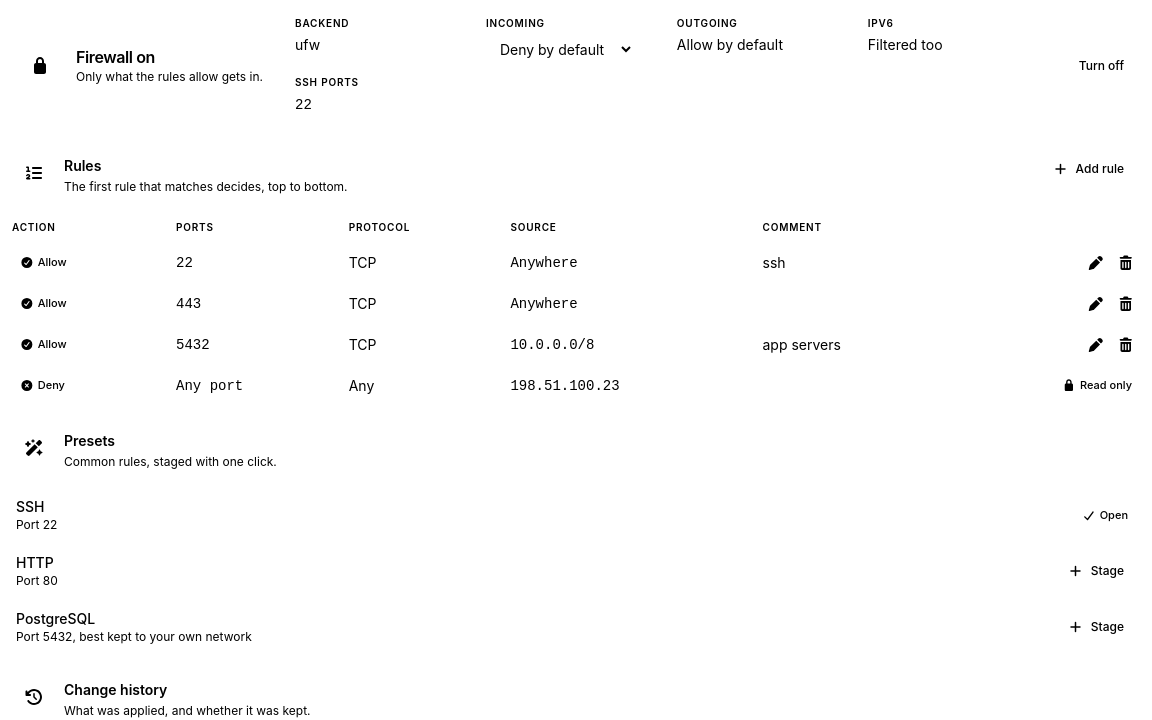
FirewallPanel › turns the firewall off after the typed name and a step-up
Click the button "Turn off" at (1101,66), box [1067, 52, 1136, 80]
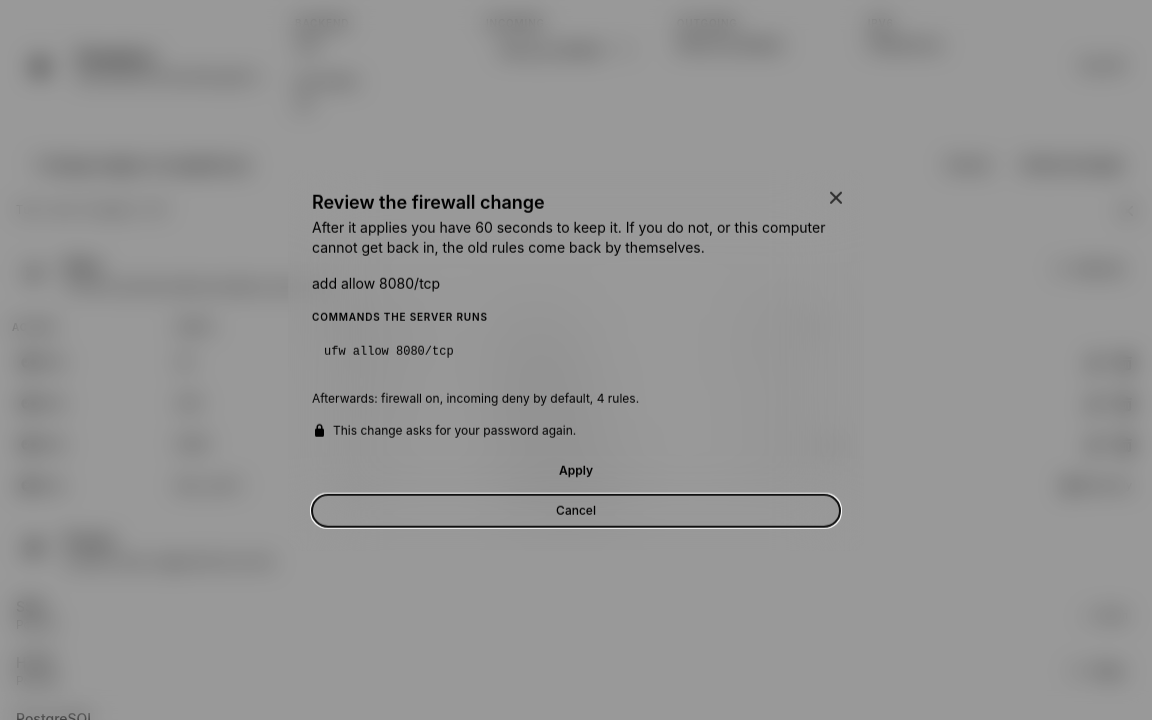
Expected: the text "This change asks for your password again." is shown, [312, 422, 576, 437]
Click the button "Apply" at (576,470), box [312, 454, 840, 486]
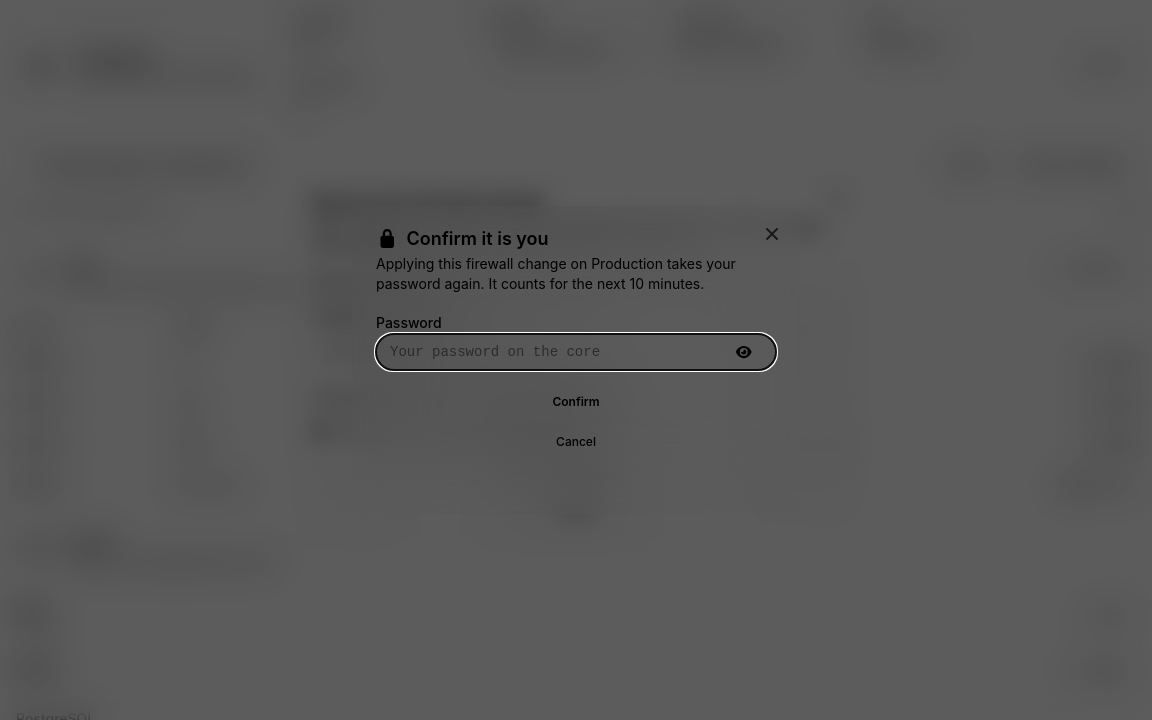
Type "secret" into the password field labelled "Password" at (576,352), box [376, 334, 776, 370]
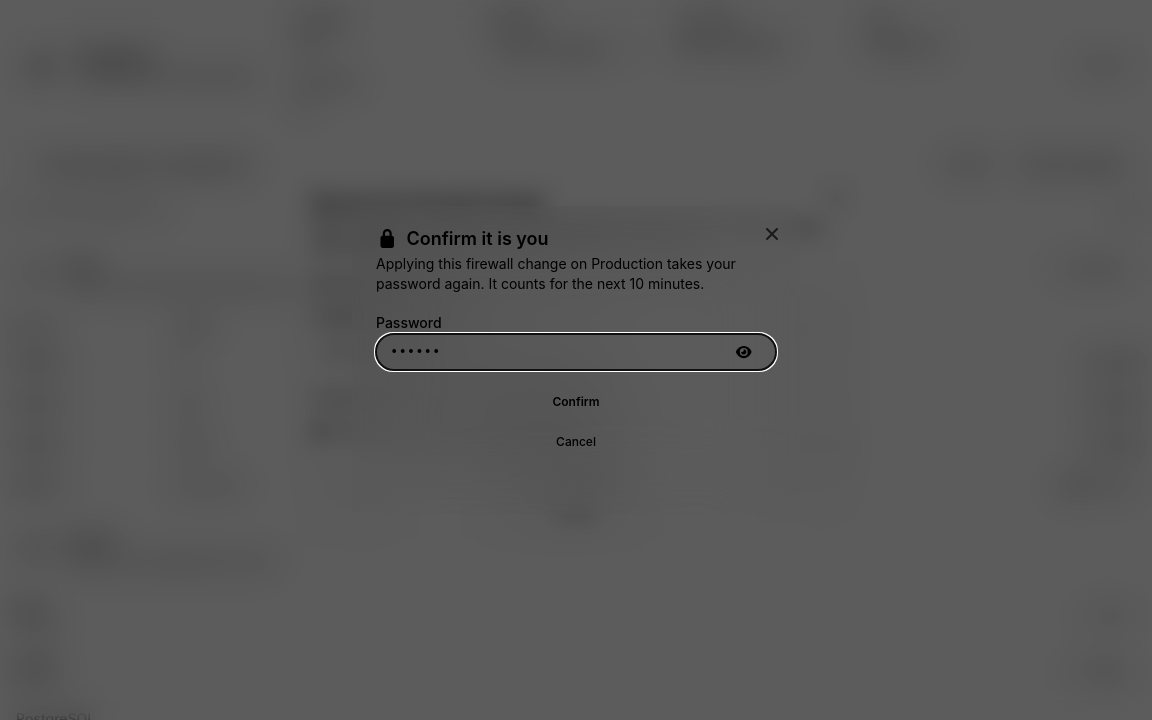
Click the button "Confirm" at (576,402), box [376, 386, 776, 418]
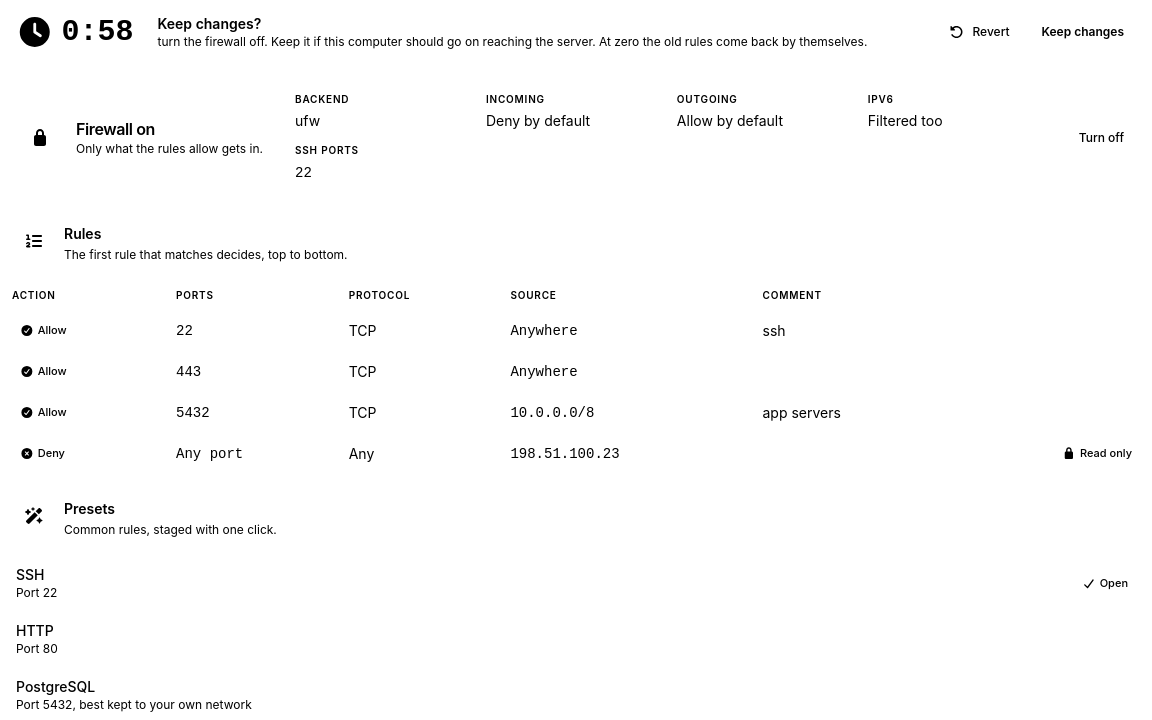
Expected: the element showing "0:58" is shown, [16, 17, 134, 47]
